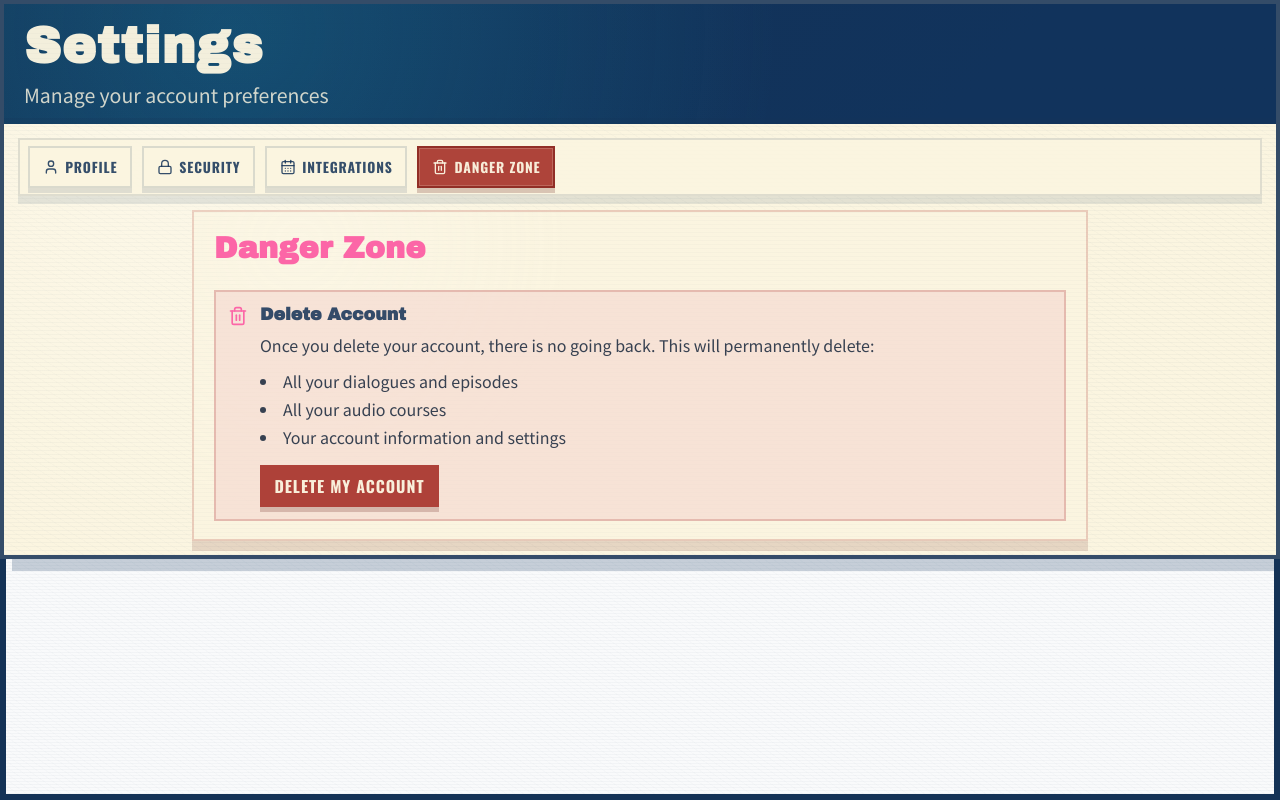
Test: SettingsPage › Danger Zone Tab › should show confirmation modal on delete click
The image size is (1280, 800).
Step 1. Click the button with test id "settings-button-delete-account" → point(349, 486), box x1=260 y1=465 x2=439 y2=507
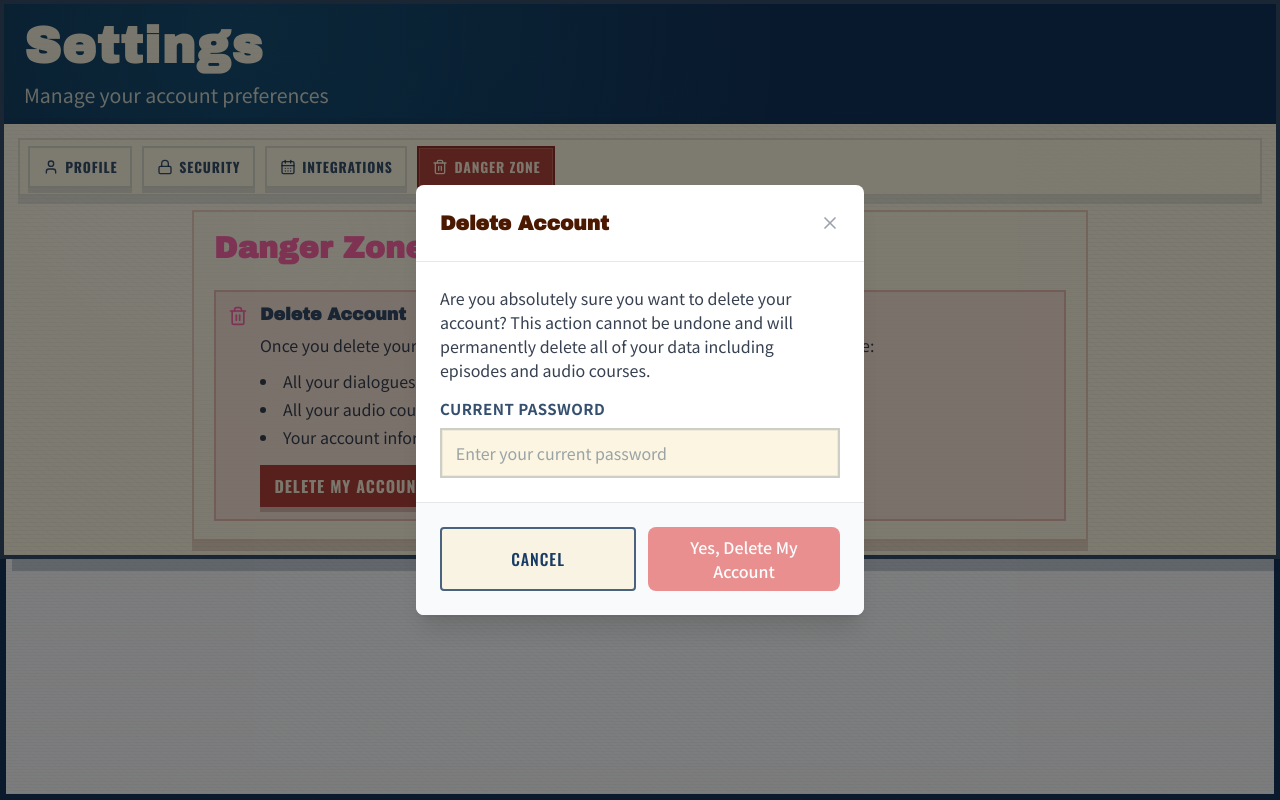
Expected: the password field labelled "Current password" is shown, x1=440 y1=428 x2=840 y2=478
Expected: the button with test id "modal-button-confirm" is disabled, x1=648 y1=527 x2=840 y2=591
